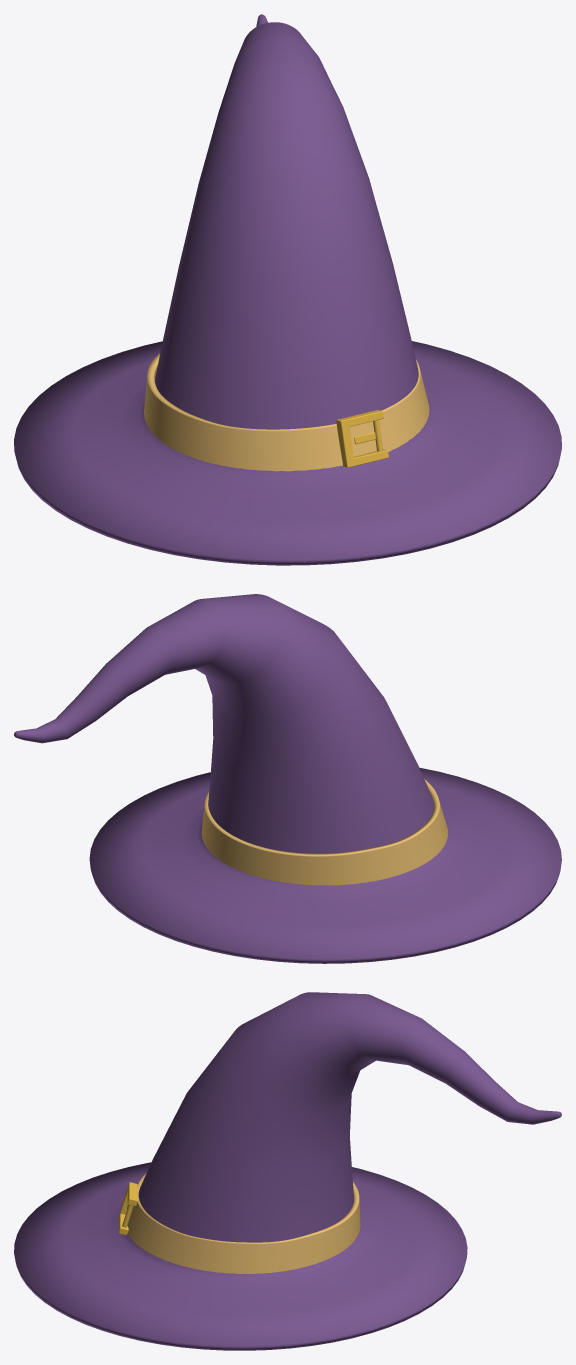
The model's file is WizardHat.fbx.
The picture shows the model from 3 angles, top to bottom: view 1: azimuth 30°, elevation 25°; view 2: azimuth 150°, elevation 25°; view 3: azimuth 270°, elevation 25°; orthographic projection. The views are drawn at different scales.
Parts seen in each view (by area): view 1: WizardHat; view 2: WizardHat; view 3: WizardHat.
Part boxes in pixels (x1,y1,x2,y2): WizardHat: (14, 14, 561, 565); WizardHat: (14, 594, 561, 963); WizardHat: (14, 992, 561, 1350).
Bounding box in the file's own units: 391 × 269 × 472.
